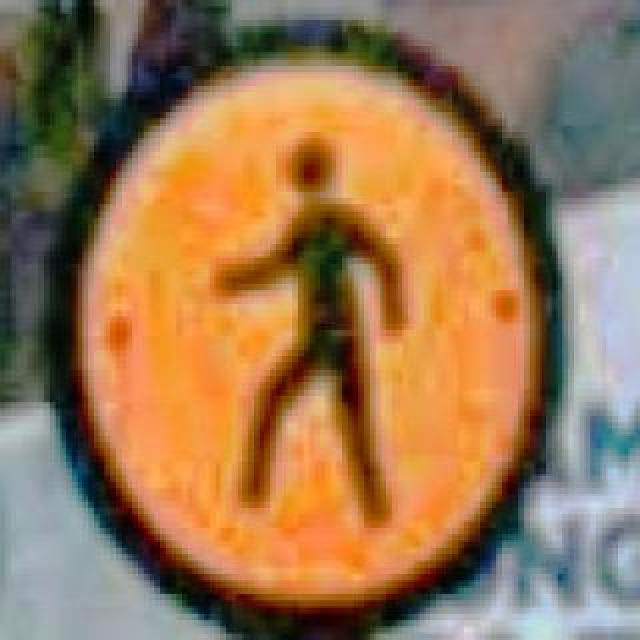pedestrian crossing: (44, 6, 564, 634)
